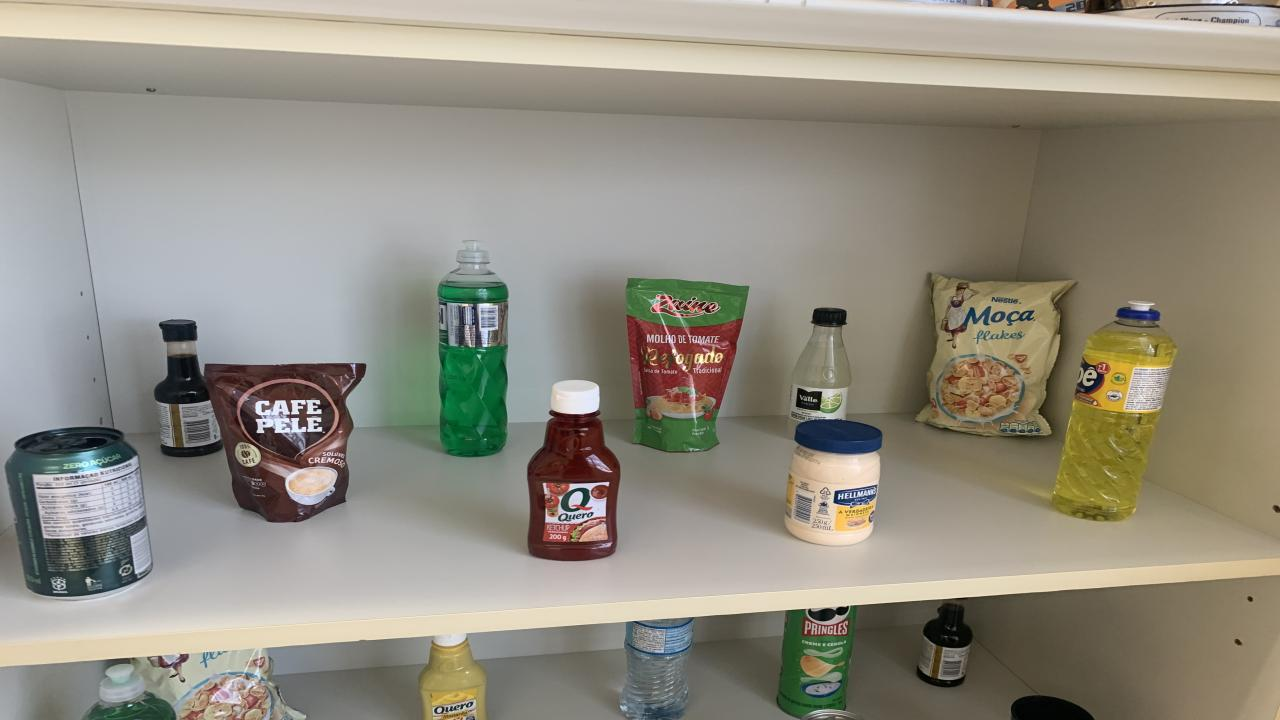Coffee-Pantry_Items: (205, 364, 365, 521), (482, 379, 485, 382)
Detergent-Cleanup_Items: (1052, 302, 1178, 521), (438, 240, 508, 456), (82, 664, 175, 720), (955, 639, 958, 643)
English_Sauce-Pantry_Items: (155, 319, 222, 458), (918, 600, 972, 688)
Flakes-Snacks: (918, 274, 1075, 435), (130, 649, 305, 720)
Guarana_Can-Drinks: (5, 428, 152, 600), (818, 352, 820, 358)
Ketchup-Pantry_Items: (528, 381, 620, 561)
Mayonnaise-Pantry_Items: (785, 420, 882, 546)
Mustard-Pantry_Items: (418, 634, 485, 720)
Pringles-Snacks: (778, 606, 858, 716)
Soda-Drinks: (788, 308, 850, 435)
Tomato_Sauce-Pantry_Items: (625, 278, 748, 452)
Water_Bottle-Drinks: (620, 617, 692, 720)
